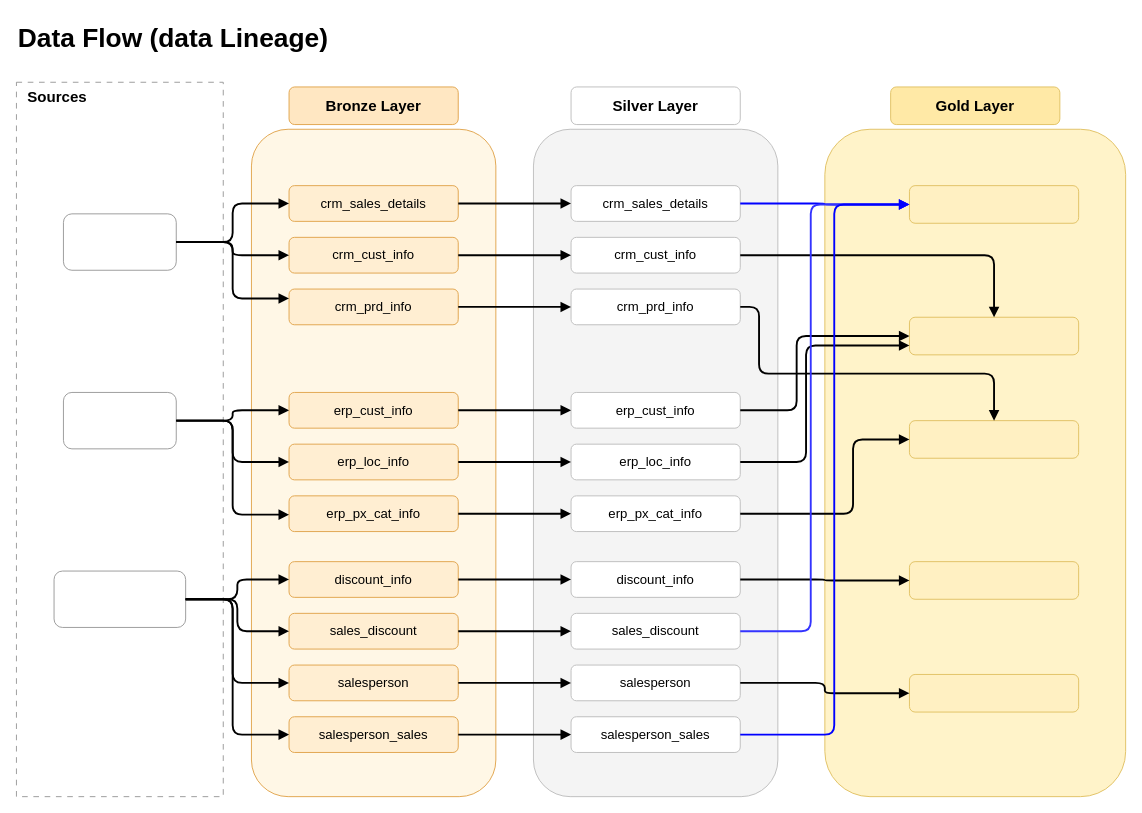
Image size: 1142x813. Some labels were removed from this diagram. The centre of each missing label's shape, as x and y in pixels:
CRM: point 119,241
dim_customers: point 994,335
dim_discount: point 994,580
dim_products: point 994,439
dim_salesperson: point 994,693
ERP: point 119,420
fact_sales: point 994,204
Marketing: point 119,598
